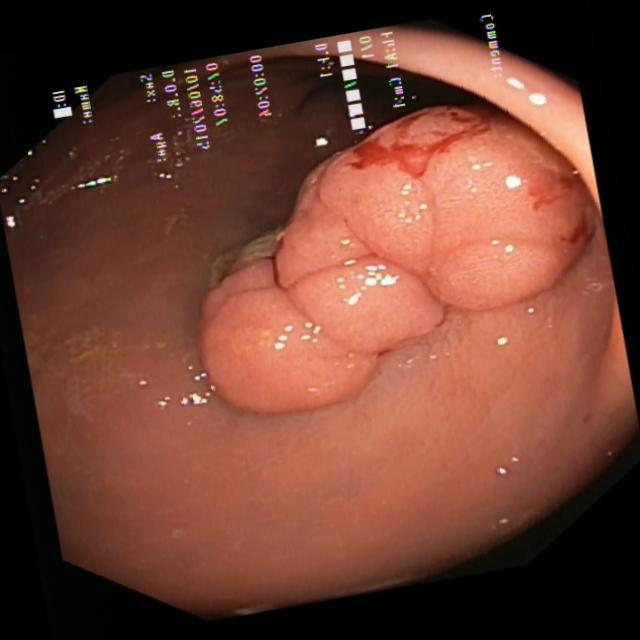Polyps: (180, 99, 590, 423)
